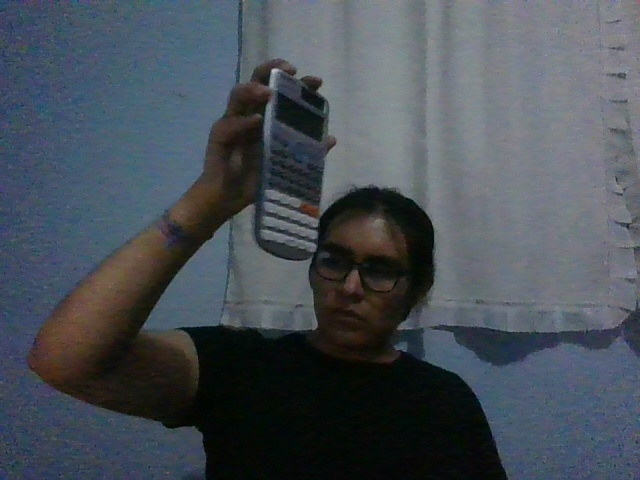calculadora: (252, 69, 328, 261)
